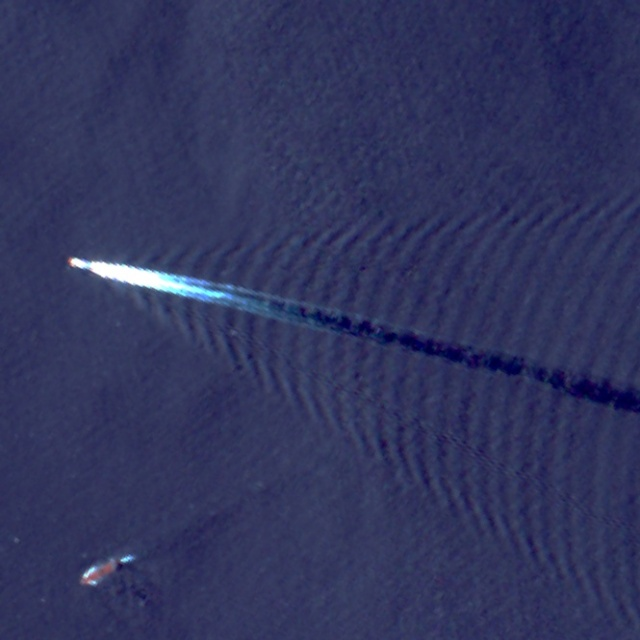wake: (36, 156, 462, 438)
